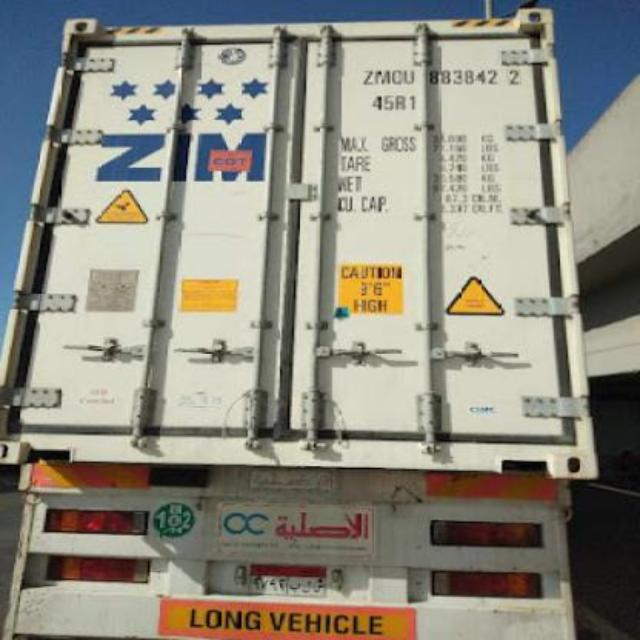2: (486, 59, 498, 91), (508, 66, 524, 86)
3: (452, 64, 462, 86)
4: (476, 59, 486, 91)
8: (426, 59, 439, 86), (462, 62, 474, 90), (442, 59, 450, 86)
M: (376, 66, 392, 86)
O: (390, 59, 402, 86)
U: (402, 62, 416, 88)
Z: (354, 59, 374, 86)
